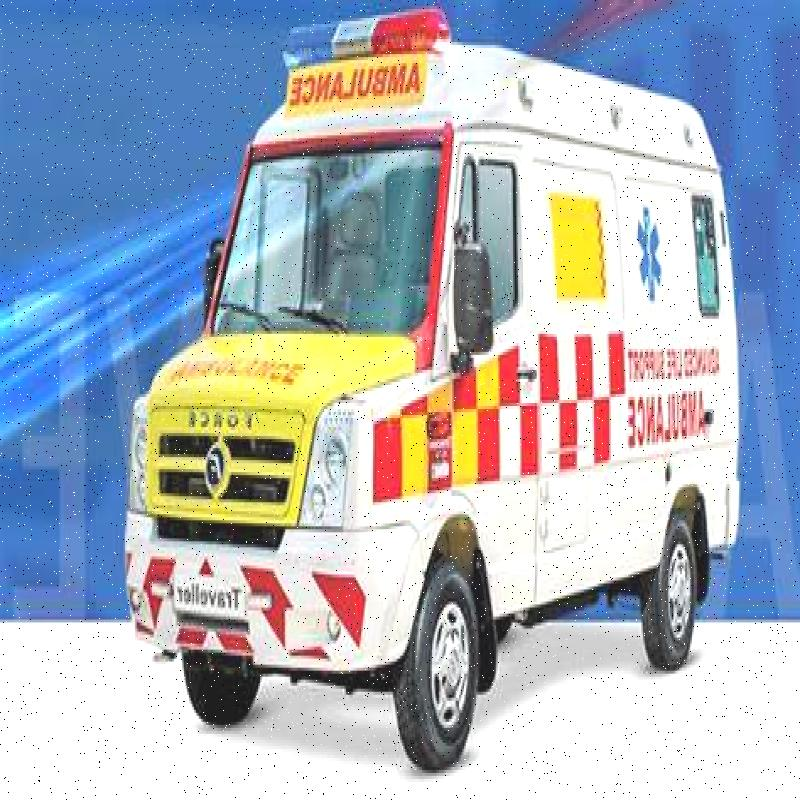AmbulanceSiren: (276, 0, 458, 103)
